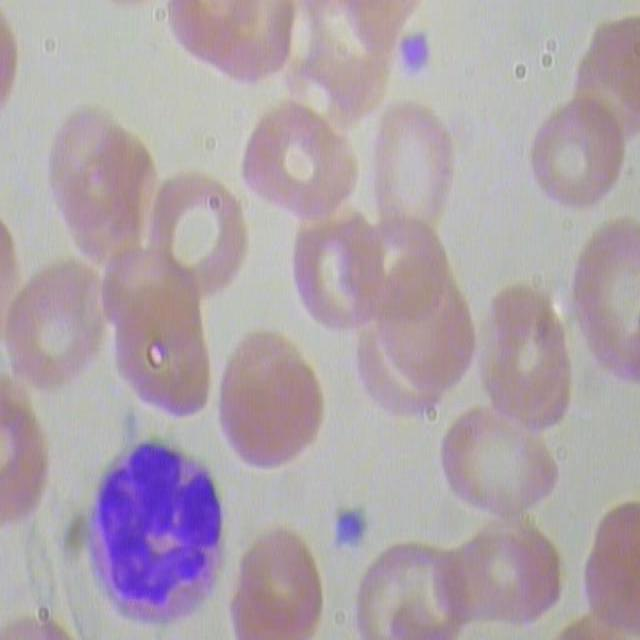Platelets: (396, 22, 435, 82), (331, 503, 369, 557)
RBC: (463, 268, 589, 441), (210, 325, 335, 476), (0, 248, 120, 395), (432, 397, 565, 528), (238, 91, 364, 225), (368, 94, 468, 250), (146, 166, 248, 310), (346, 537, 470, 639), (530, 92, 628, 217), (570, 210, 639, 386), (221, 525, 326, 639)
WBC: (83, 428, 240, 631)
